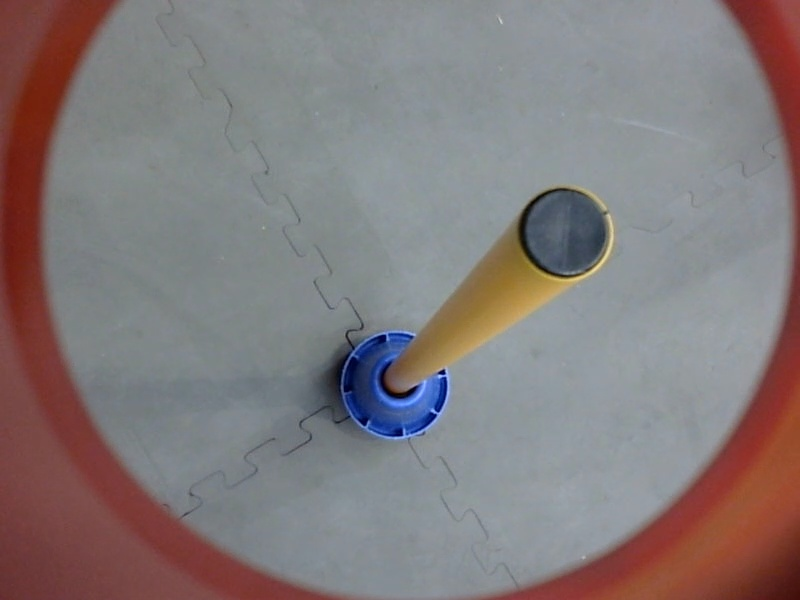tip: (512, 179, 619, 291)
